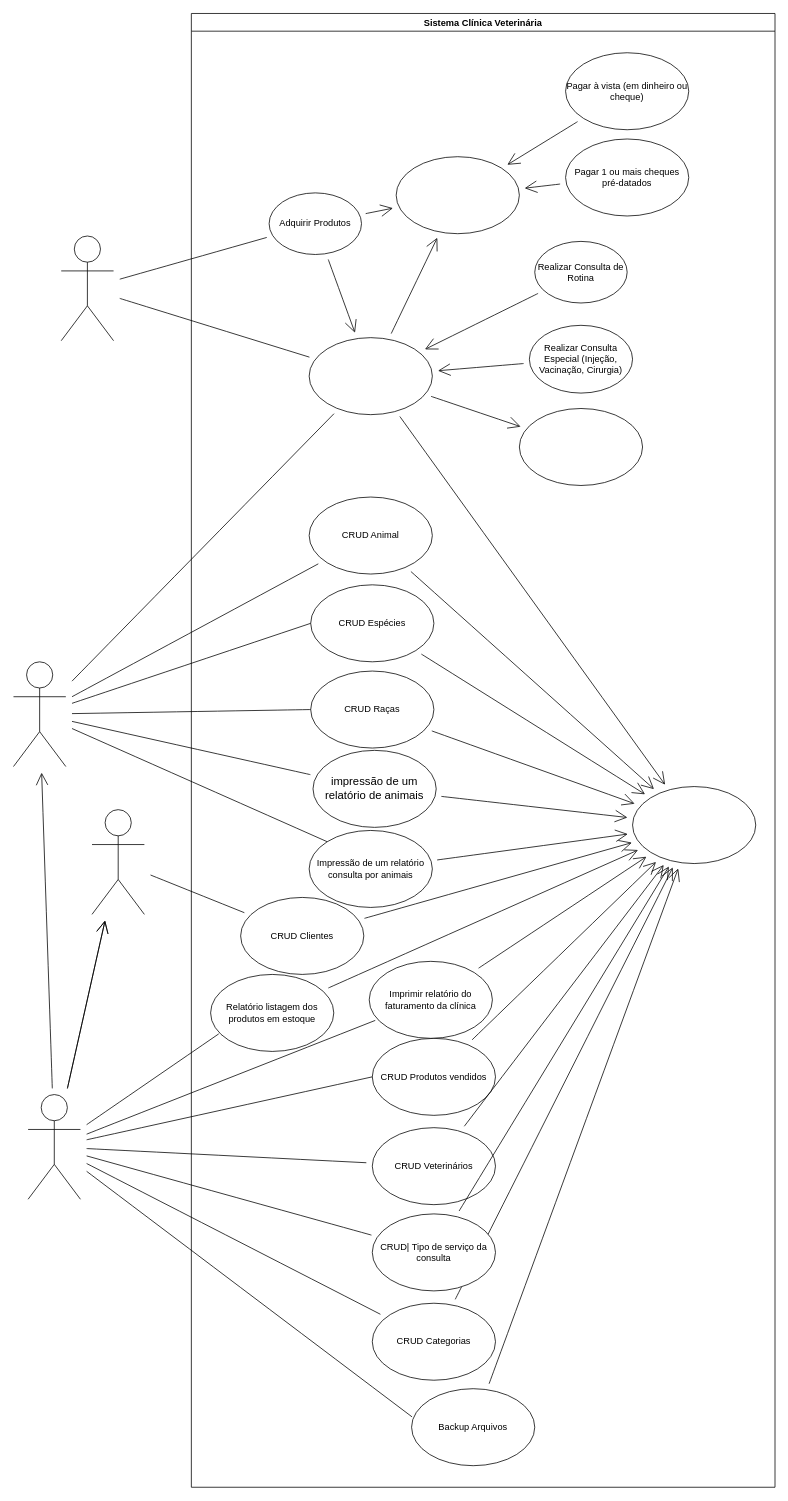
Some shapes in this 788 by 1501 pixel diagram are drawn without their labels. The shapes that lost their labels are listed below. From the top down, each one's box as (x1, y1, x2, y2) in pixels, then its label:
(395, 156, 519, 234): Pagar
(60, 235, 114, 341): Clente
(308, 337, 432, 415): Realizar consulta
(519, 408, 643, 485): Imprimir comprovante de consulta
(13, 661, 66, 767): Veterinário
(632, 786, 756, 864): Solicitar Senha
(91, 809, 144, 914): Secretária
(27, 1094, 80, 1199): ADM
